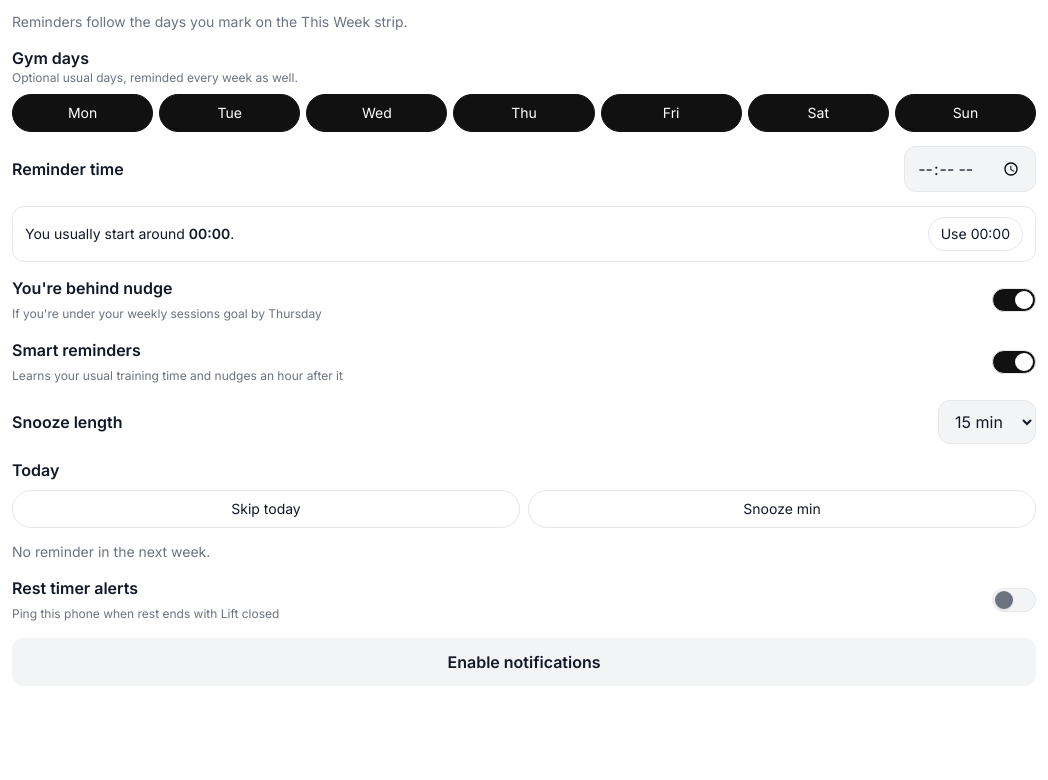
Test case: Reminders > Rest timer alerts › stays off with a plain message when push is unavailable
This screenshot has width=1048, height=780.
Click the switch named "Rest timer alerts". click: (1014, 600)
box: [992, 588, 1036, 612]
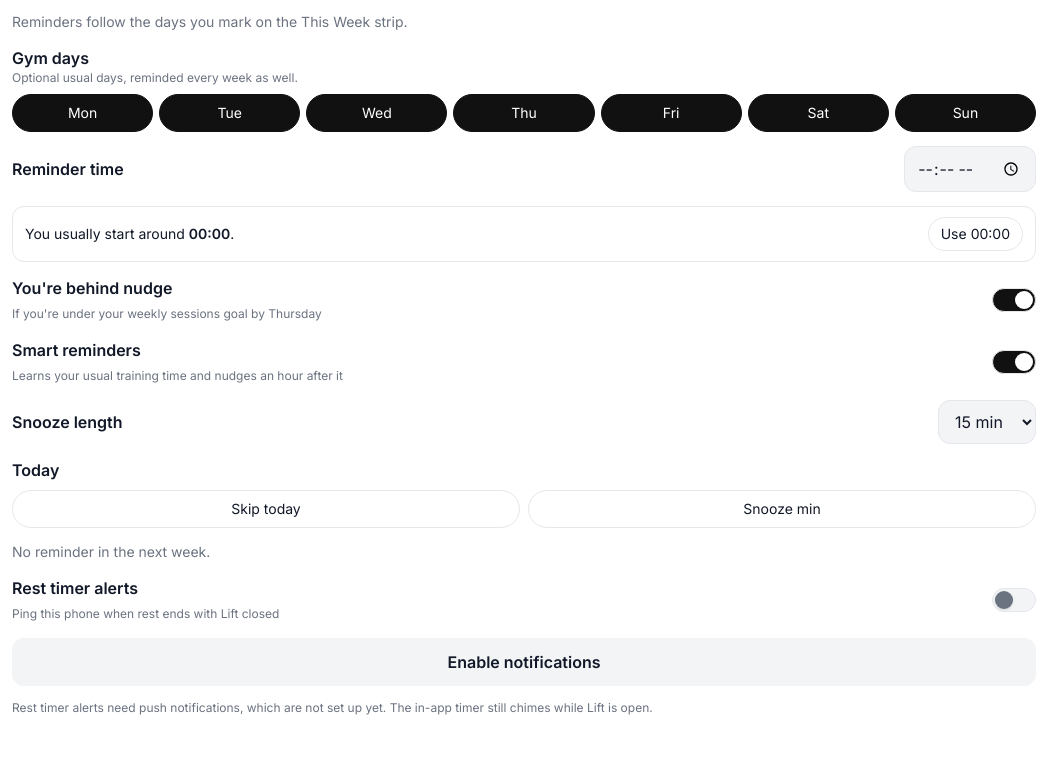
expect the text "Rest timer alerts need push notifications, which are not set up yet. The in-app timer still chimes while Lift is open." is shown: met, box [12, 700, 653, 715]
